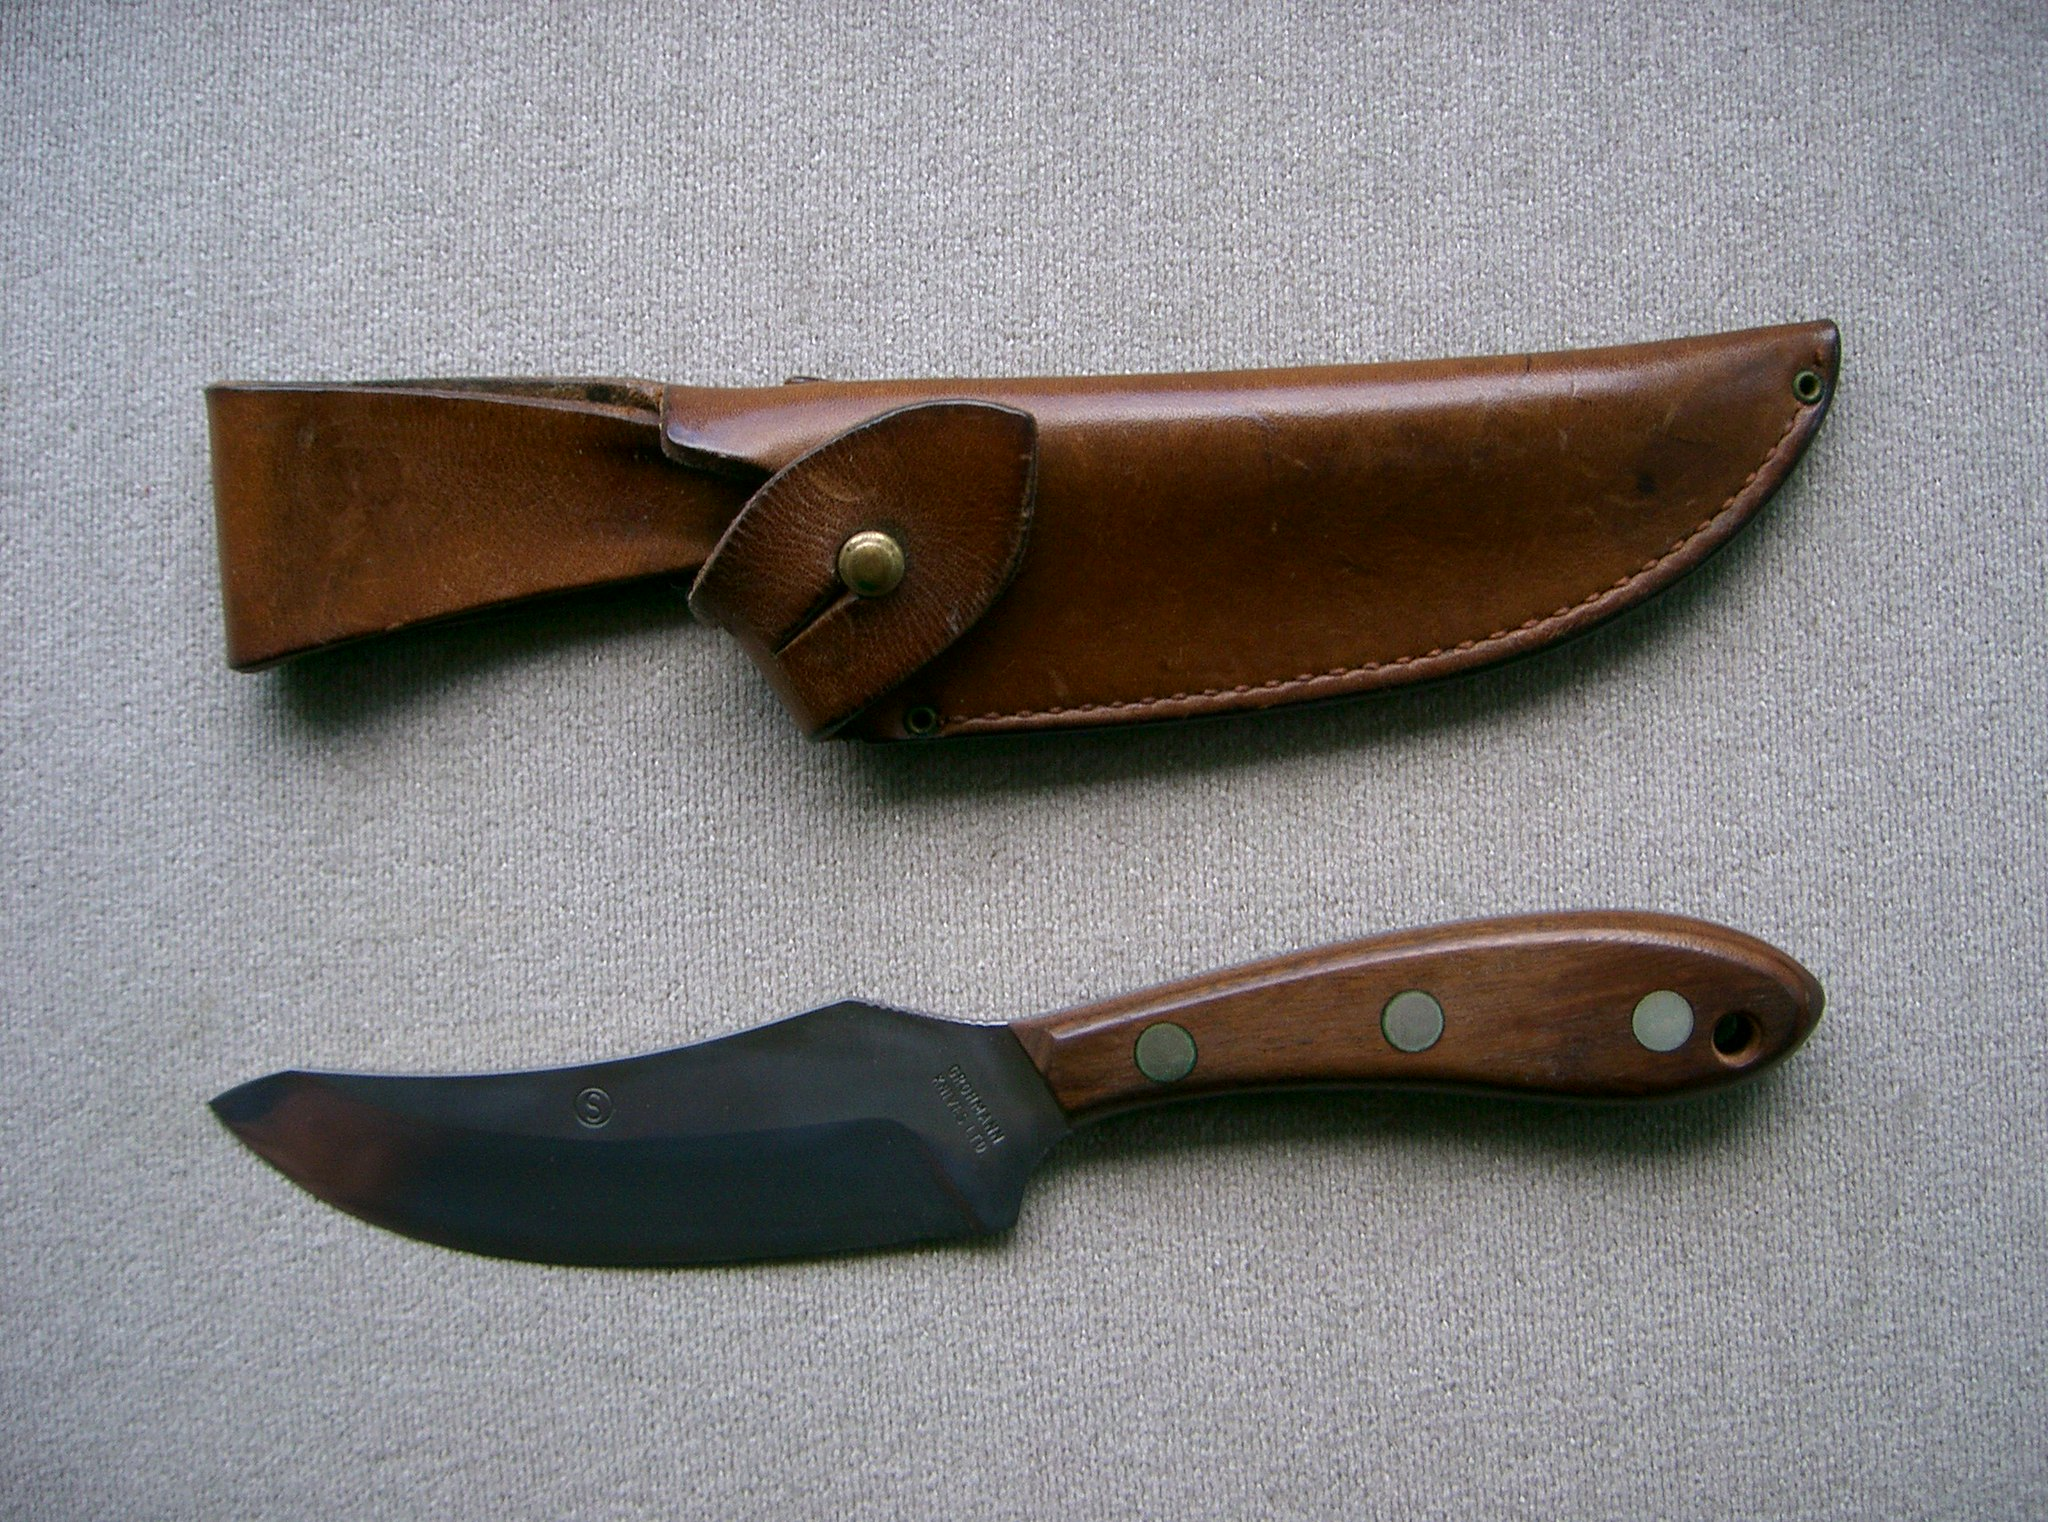knife: (160, 894, 1837, 1317)
